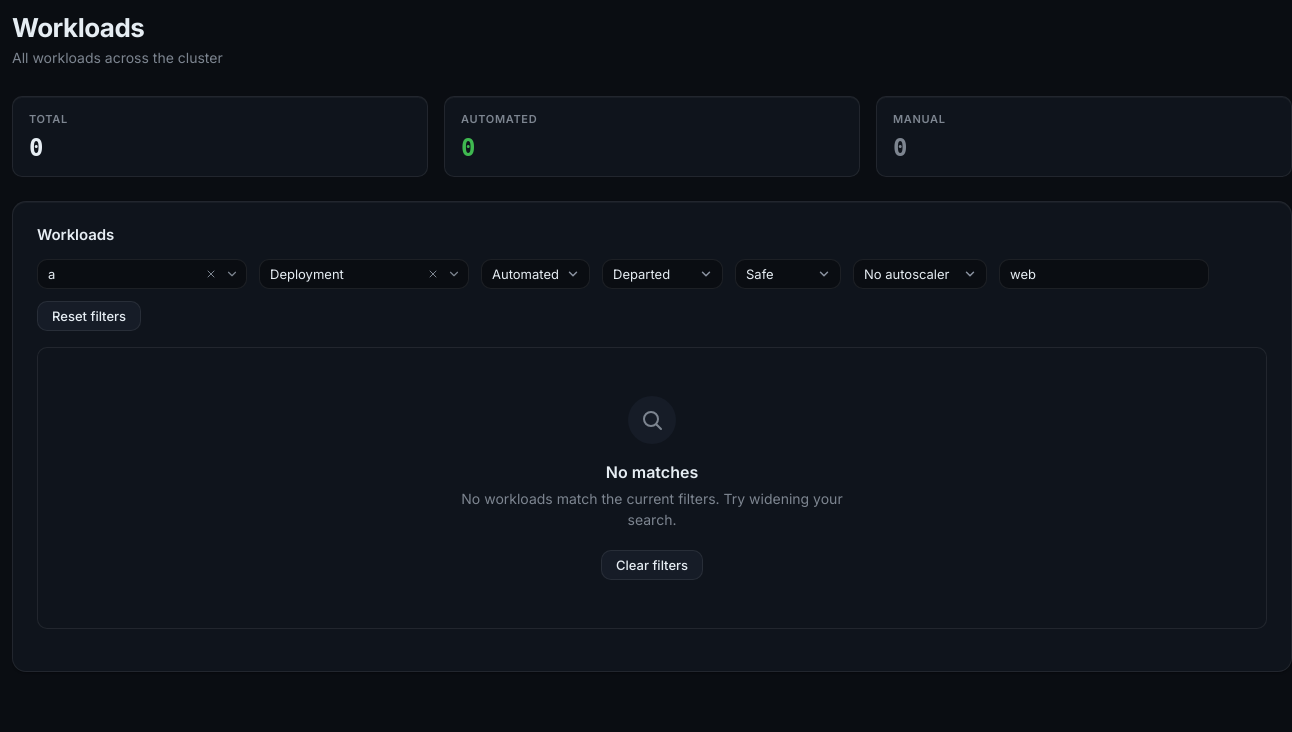
WorkloadsView › resets every filter but keeps the sort order
The width and height of the screenshot is (1292, 732).
Click the button with test id "reset-filters": click(89, 316) x1=37 y1=301 x2=141 y2=331
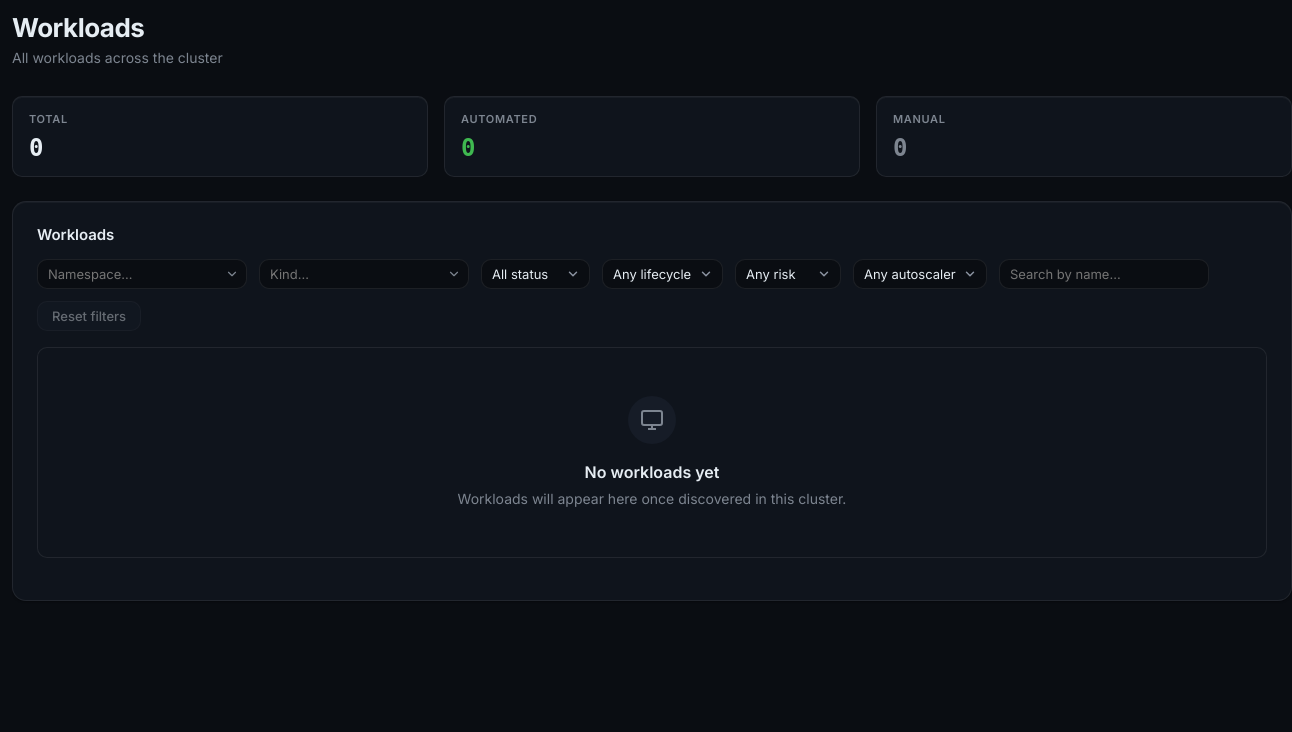
Expected: the field with placeholder "Search by name..." is empty, x1=999 y1=259 x2=1209 y2=289
Expected: the button with test id "reset-filters" is disabled, x1=37 y1=301 x2=141 y2=331
